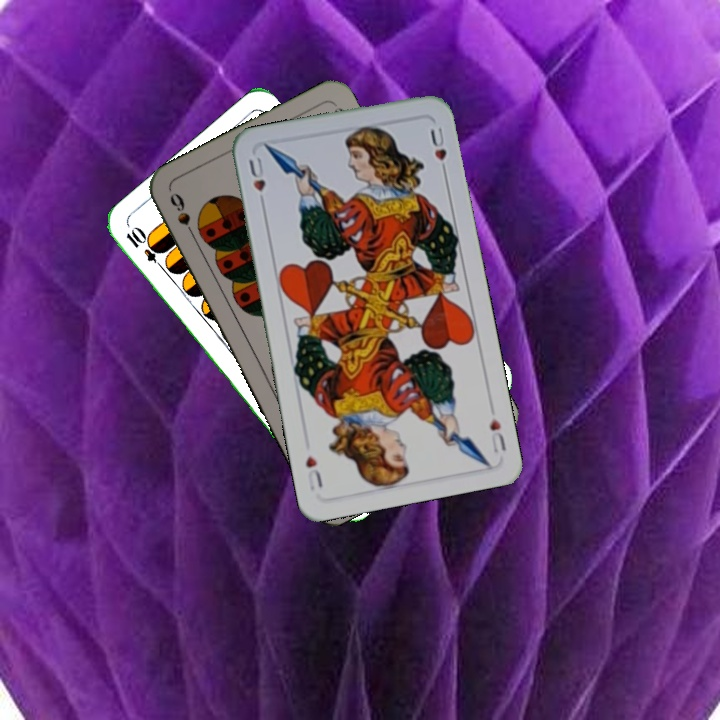E10: (121, 224, 169, 274)
HU: (245, 153, 268, 210), (485, 413, 509, 455)
S9: (165, 188, 200, 244)
